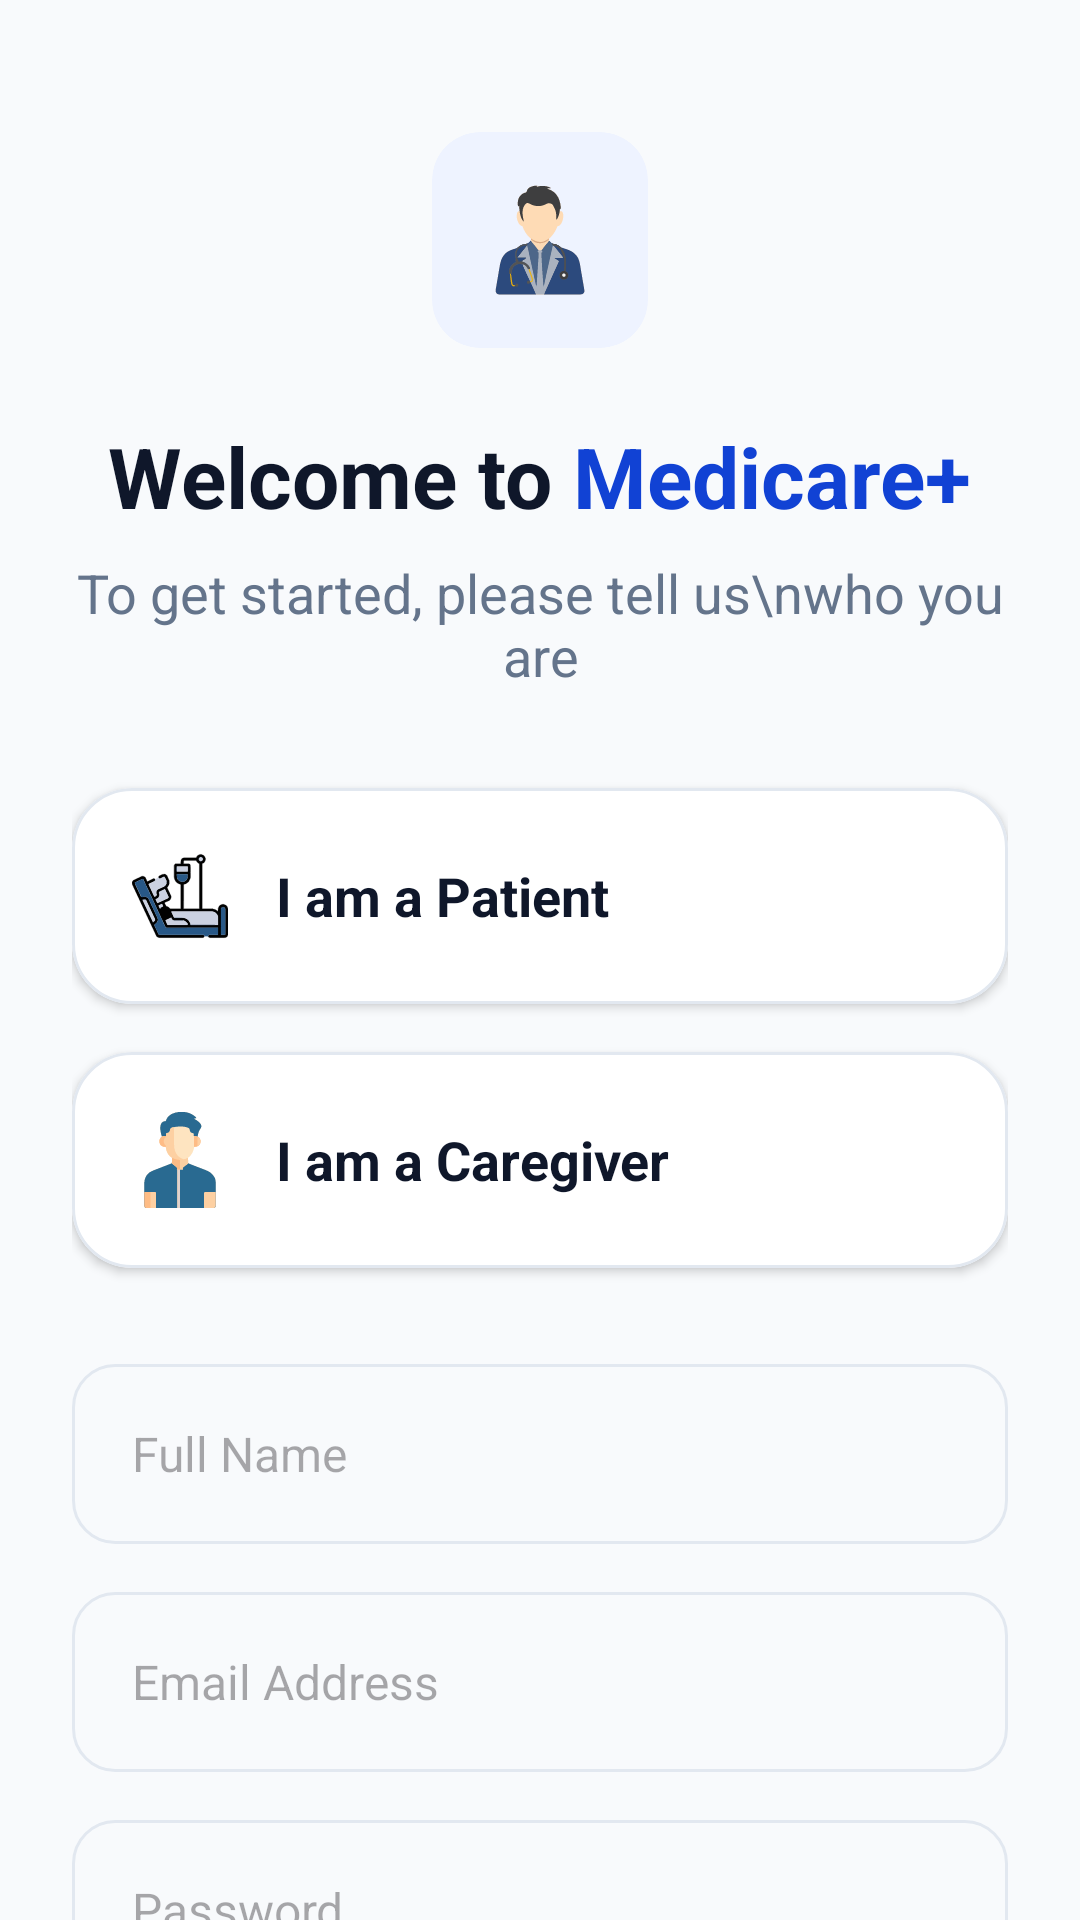

Icons on this 1080*1920 Android screen, each with its box as (x1, y1, x2, y2):
impatient: (132, 854, 228, 938)
